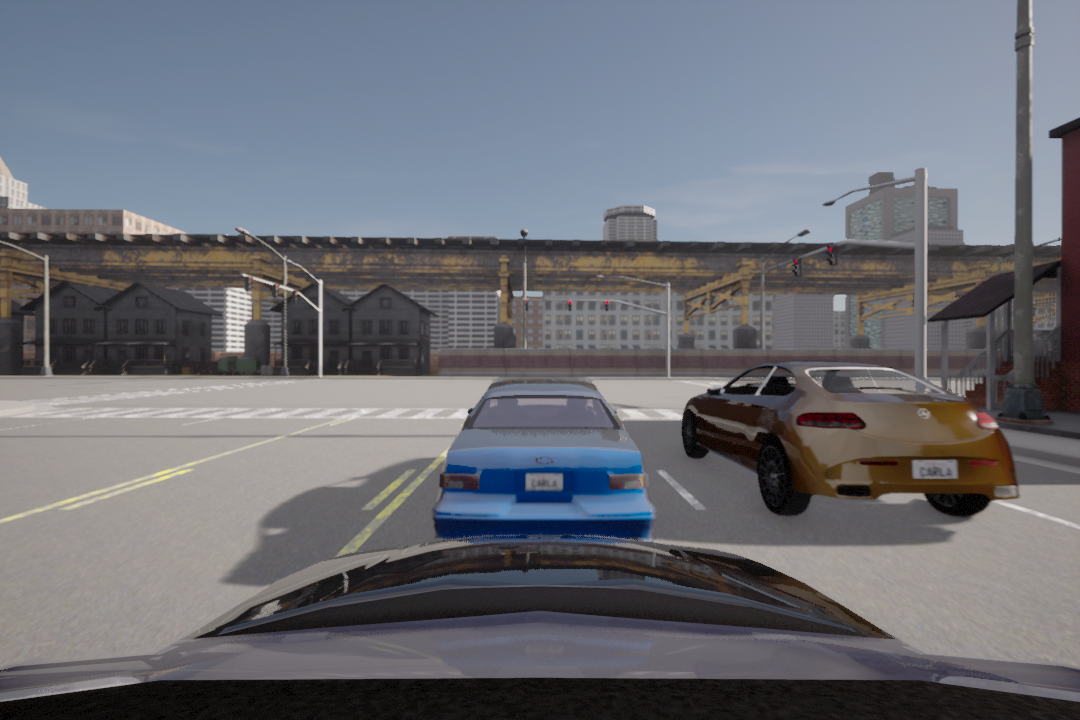TrafficLight: (561, 296, 574, 314), (826, 241, 836, 264), (791, 257, 802, 276), (243, 274, 252, 292), (272, 281, 281, 299), (602, 298, 611, 314), (292, 289, 300, 306), (524, 299, 531, 314)
walkside: (27, 400, 778, 431)
